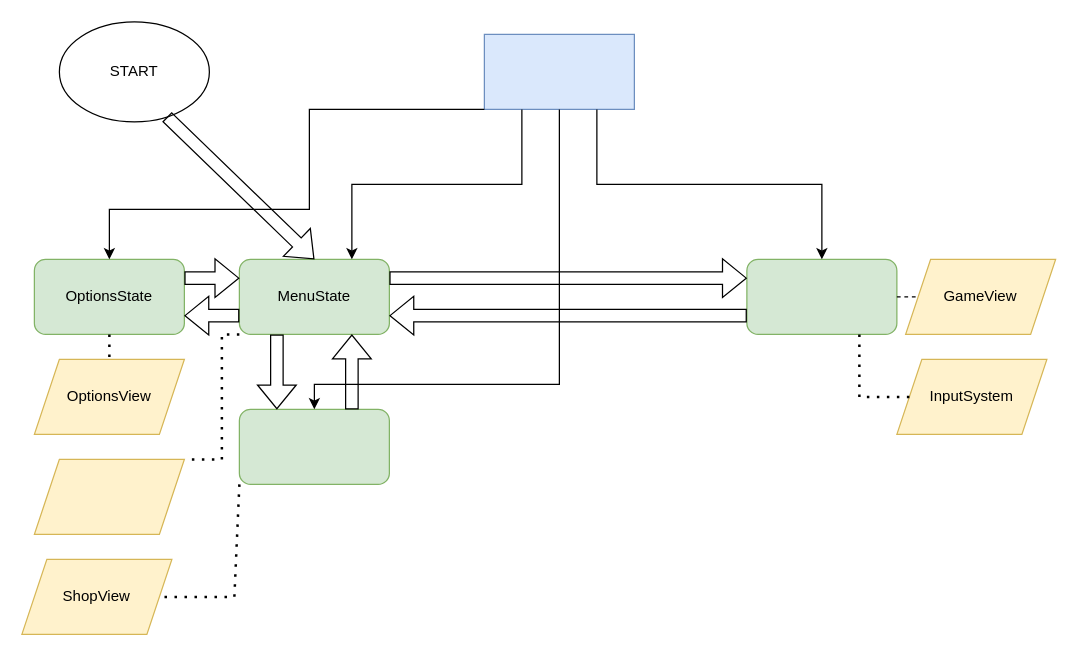
This 1078x656 diagram has some shape labels left out. The box of each missing label's shape, as (x1, y1, x2, y2) in pixels:
Game Controller: (483, 33, 634, 109)
GameState: (746, 258, 897, 334)
MenuView: (33, 458, 184, 534)
ShopState: (238, 408, 389, 484)
